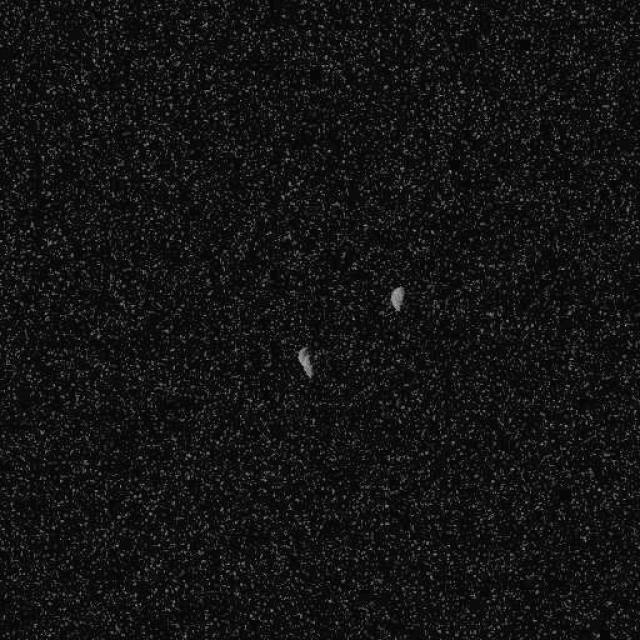D2: (295, 345, 314, 379), (389, 285, 405, 313)
